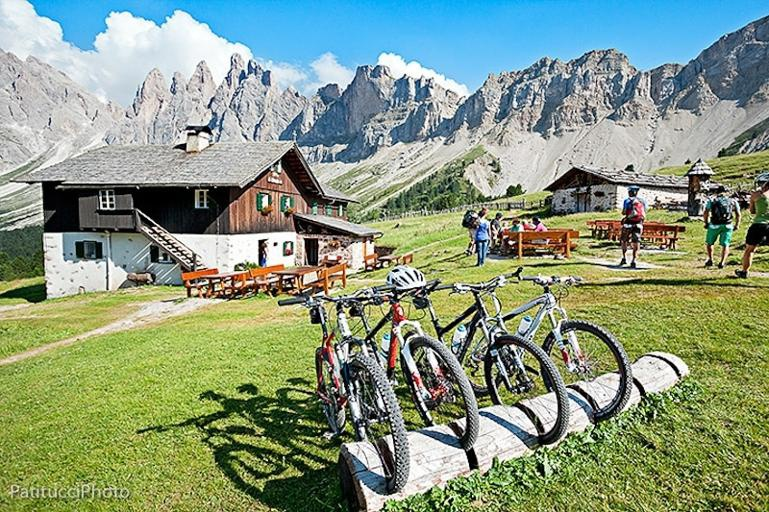non-vehicle: (393, 263, 571, 446), (276, 281, 413, 499), (451, 271, 635, 424), (341, 271, 482, 451)
